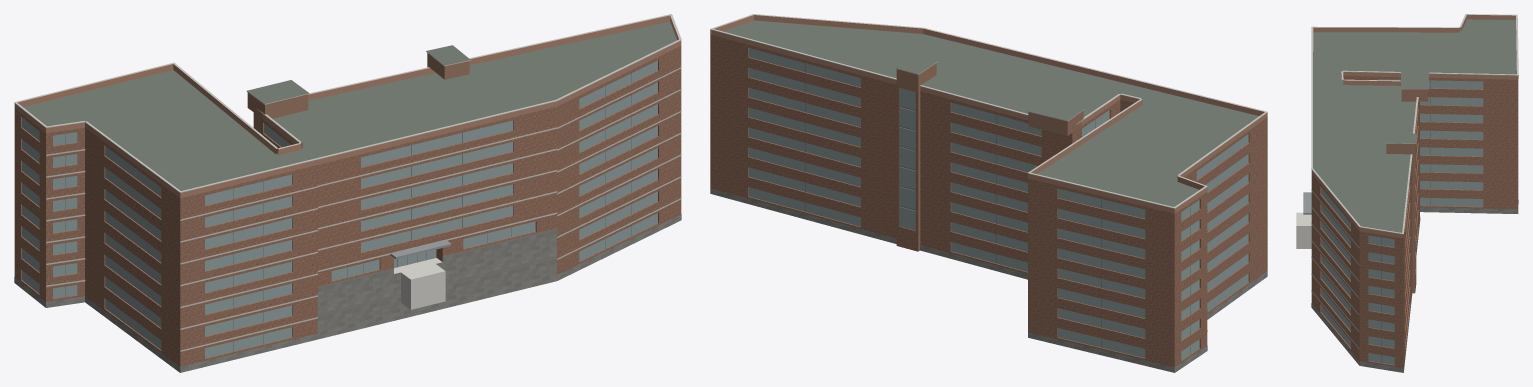
3 renders of one model, left to right at view 1: azimuth 30°, elevation 25°; view 2: azimuth 150°, elevation 25°; view 3: azimuth 270°, elevation 25°, orthographic. The views are drawn at different scales.
Visible parts, largest first — view 1: b140__wall, b140__roof, b140__glass, b140__base, b140__trim, b140__parapet, b140__entranceStair, b140__wall2, b140__frame; view 2: b140__wall, b140__glass, b140__roof, b140__parapet, b140__base, b140__trim, b140__wall2; view 3: b140__roof, b140__wall, b140__glass, b140__parapet, b140__trim, b140__wall2, b140__base, b140__entranceStair, b140__canopy.
Part boxes in pixels (x1,y1,x2,y2): b140__wall: [14, 46, 681, 372]; b140__roof: [23, 21, 676, 338]; b140__glass: [22, 60, 657, 358]; b140__base: [14, 214, 681, 372]; b140__trim: [14, 14, 681, 351]; b140__parapet: [14, 15, 681, 198]; b140__entranceStair: [394, 258, 445, 309]; b140__wall2: [247, 53, 469, 118]; b140__frame: [65, 73, 631, 351]; b140__wall: [710, 34, 1267, 372]; b140__glass: [748, 48, 1248, 360]; b140__roof: [723, 20, 1258, 206]; b140__parapet: [710, 15, 1267, 213]; b140__base: [710, 188, 1267, 372]; b140__trim: [710, 14, 1267, 331]; b140__wall2: [896, 63, 1083, 251]; b140__roof: [1313, 19, 1516, 232]; b140__wall: [1311, 76, 1518, 368]; b140__glass: [1321, 79, 1483, 364]; b140__parapet: [1311, 14, 1518, 238]; b140__trim: [1311, 14, 1518, 348]; b140__wall2: [1386, 89, 1428, 293]; b140__base: [1311, 200, 1518, 372]; b140__entranceStair: [1296, 212, 1311, 248]; b140__canopy: [1303, 192, 1311, 214].
Size of the model in its own units: 101 by 32.21 by 43.23.
11 materials, 2 textured.
